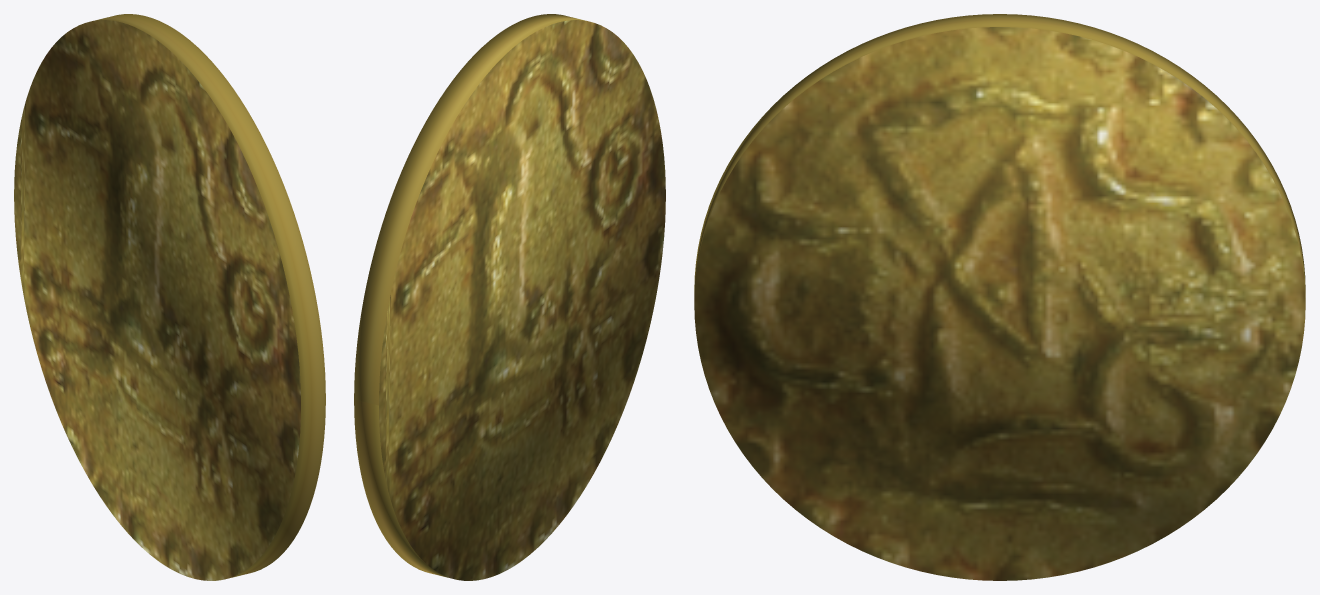
File: Kijang.glb
The picture shows the model from 3 angles, left to right: view 1: azimuth 30°, elevation 25°; view 2: azimuth 150°, elevation 25°; view 3: azimuth 270°, elevation 25°; orthographic projection. The views are drawn at different scales.
Visible parts, largest first — view 1: Cylinder; view 2: Cylinder; view 3: Cylinder.
Boxes of the visible parts, <box> form: Cylinder: <box>14,14,325,580</box>; Cylinder: <box>354,14,665,580</box>; Cylinder: <box>694,14,1305,580</box>.
Bounding box in the file's own units: 0.02 × 0.4 × 0.4.
1 material, 1 textured.
